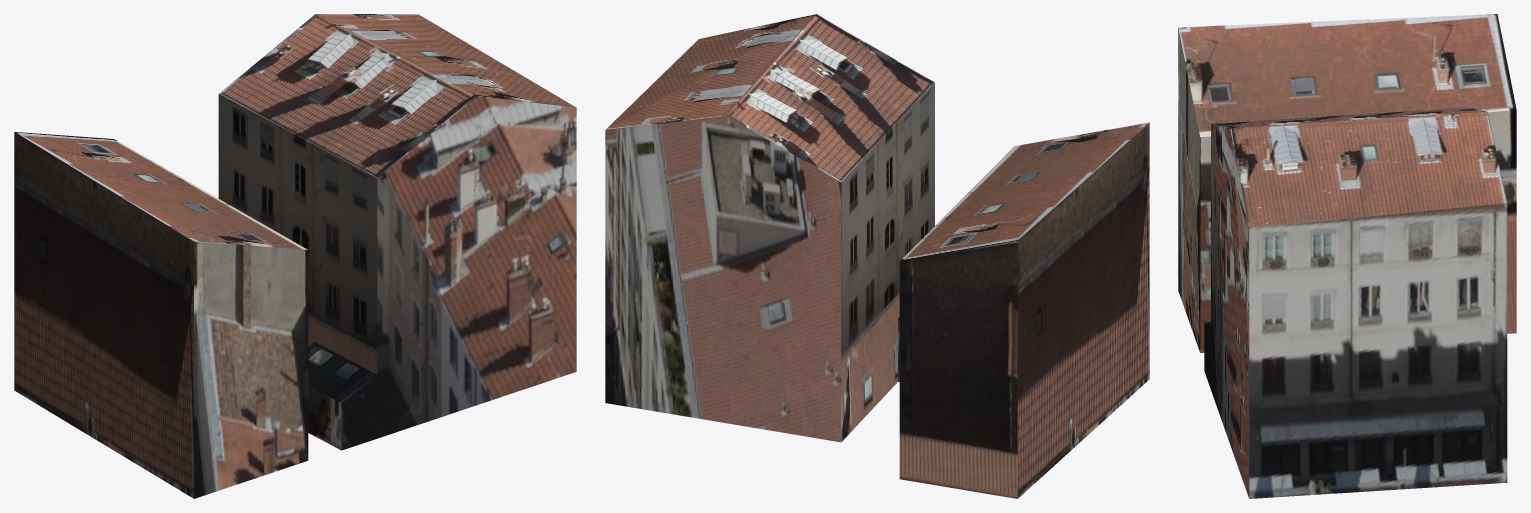
3 renders of one model, left to right at view 1: azimuth 30°, elevation 25°; view 2: azimuth 150°, elevation 25°; view 3: azimuth 270°, elevation 25°, orthographic. The views are drawn at different scales.
Parts seen in each view (by area): view 1: Z_UP; view 2: Z_UP; view 3: Z_UP.
Boxes of the visible parts, left/top/right/bottom form: Z_UP: left=14, top=14, right=576, bottom=498; Z_UP: left=605, top=14, right=1149, bottom=498; Z_UP: left=1178, top=14, right=1516, bottom=498.
Bounding box in the file's own units: 27.28 × 18.28 × 17.72.
Materials: 2 (1 with a texture image).
